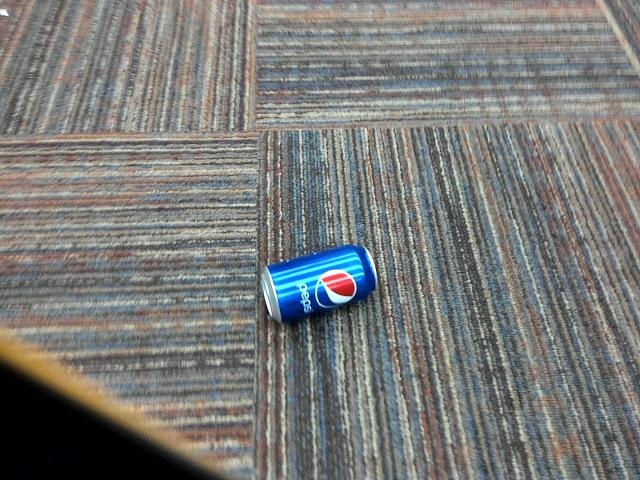can: (256, 241, 381, 329)
